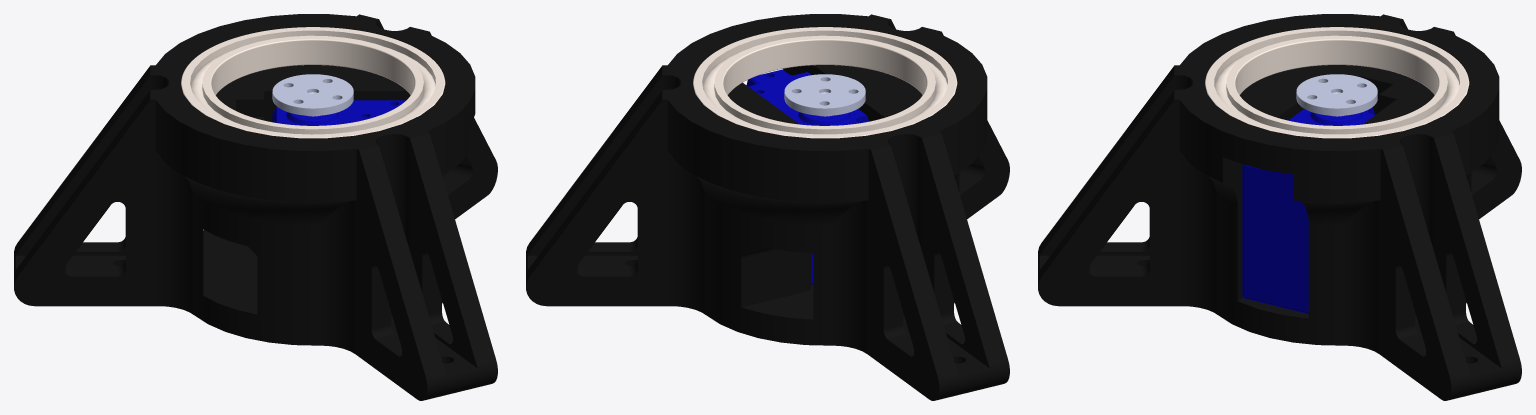
The picture shows the model from 3 angles, left to right: view 1: azimuth 30°, elevation 25°; view 2: azimuth 150°, elevation 25°; view 3: azimuth 270°, elevation 25°; orthographic projection.
Visible parts, largest first — view 1: Body1, Body1:1, Body1:3, Body2; view 2: Body1, Body1:1, Body1:3, Body2; view 3: Body1, Body1:1, Body2, Body1:3.
Part boxes in pixels (left/top/right/bottom): Body1: left=14, top=14, right=497, bottom=400; Body1:1: left=181, top=27, right=445, bottom=138; Body1:3: left=272, top=74, right=353, bottom=115; Body2: left=272, top=100, right=405, bottom=125; Body1: left=526, top=14, right=1009, bottom=400; Body1:1: left=693, top=27, right=957, bottom=138; Body1:3: left=784, top=74, right=865, bottom=115; Body2: left=746, top=69, right=868, bottom=284; Body1: left=1038, top=14, right=1521, bottom=400; Body1:1: left=1205, top=27, right=1469, bottom=138; Body2: left=1242, top=107, right=1374, bottom=313; Body1:3: left=1296, top=74, right=1377, bottom=115.
Size of the model in its own units: 13.74 by 5.6 by 11.9.
